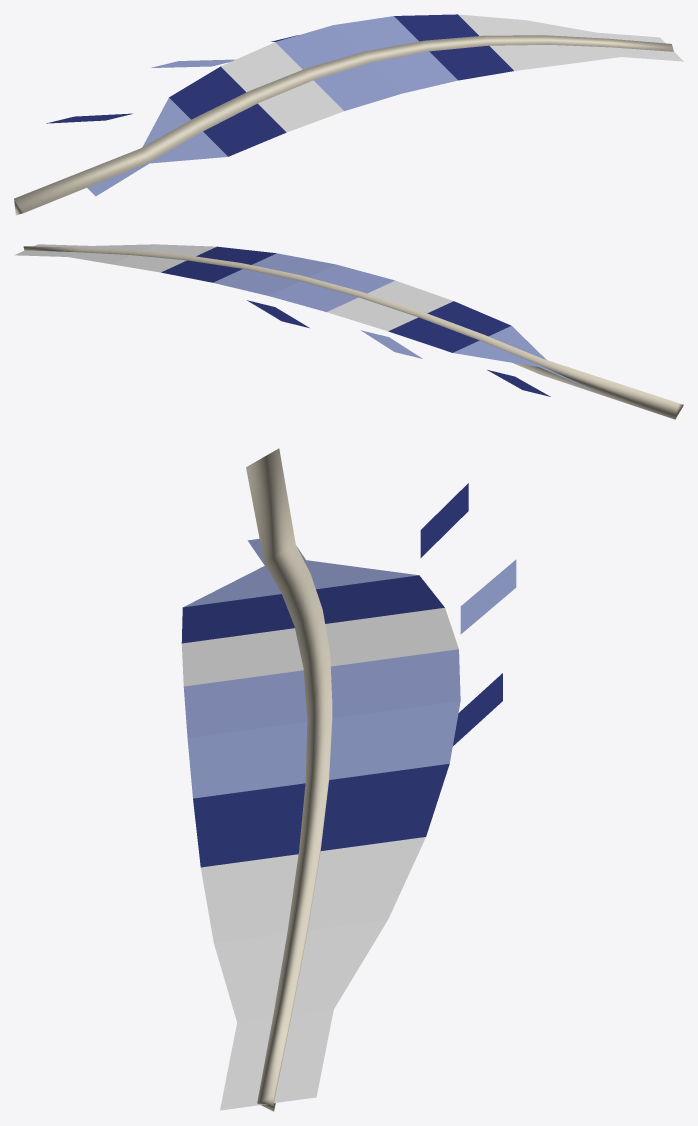
The model's file is col_blue_jay_feather.gltf.
The picture shows the model from 3 angles, top to bottom: view 1: azimuth 30°, elevation 25°; view 2: azimuth 150°, elevation 25°; view 3: azimuth 270°, elevation 25°; orthographic projection. The views are drawn at different scales.
Parts seen in each view (by area): view 1: col_blue_jay_feather; view 2: col_blue_jay_feather; view 3: col_blue_jay_feather.
Boxes of the visible parts, bbox=[...] form: col_blue_jay_feather: bbox=[14, 14, 683, 215]; col_blue_jay_feather: bbox=[14, 244, 683, 419]; col_blue_jay_feather: bbox=[181, 448, 516, 1111].
Size of what is drawn, in the model's own units: 0.2711 by 0.0271 by 0.0599.
